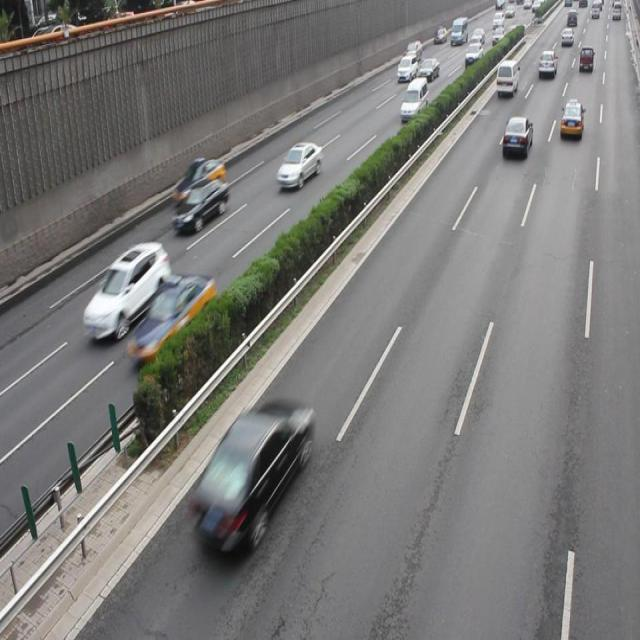car: (187, 398, 313, 552), (83, 242, 171, 342), (125, 272, 214, 362), (172, 177, 228, 234), (172, 158, 224, 208), (276, 140, 322, 188), (501, 116, 531, 160), (558, 100, 583, 138)
truck: (400, 76, 428, 120)
